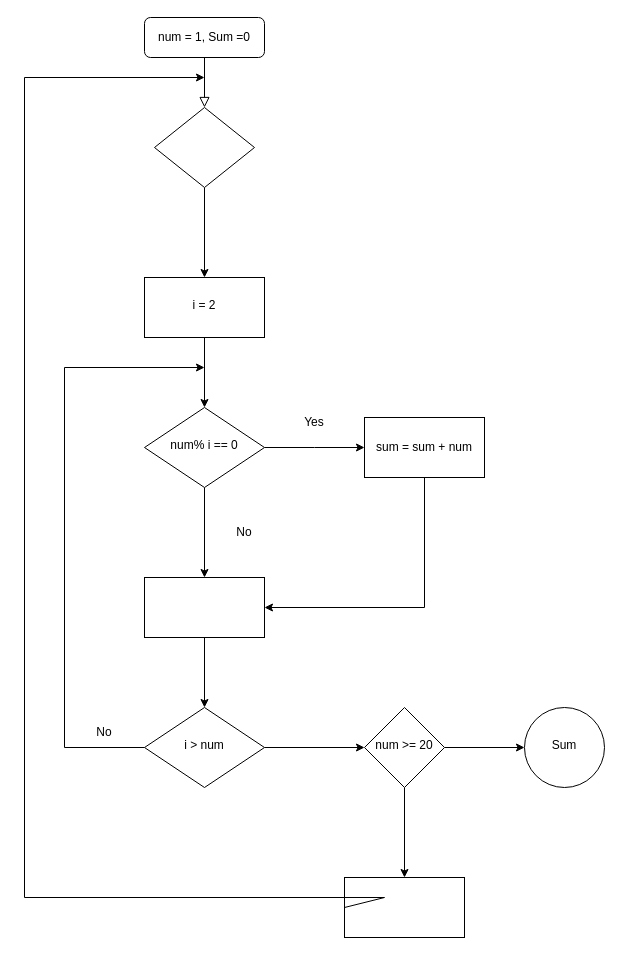
Some shapes in this 622 by 955 pixel diagram are drawn without their labels. Each missing label, with the centre of its shape:
"i = i + 1" belongs at point (204, 607).
"num < 2" belongs at point (204, 147).
"num = num + 1" belongs at point (404, 907).
